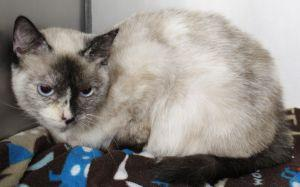siamese: (5, 10, 123, 140)
